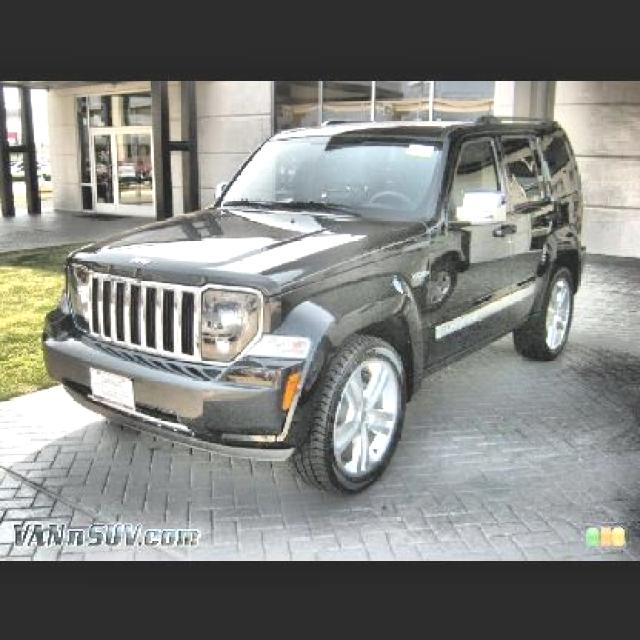black: (59, 111, 580, 453)
